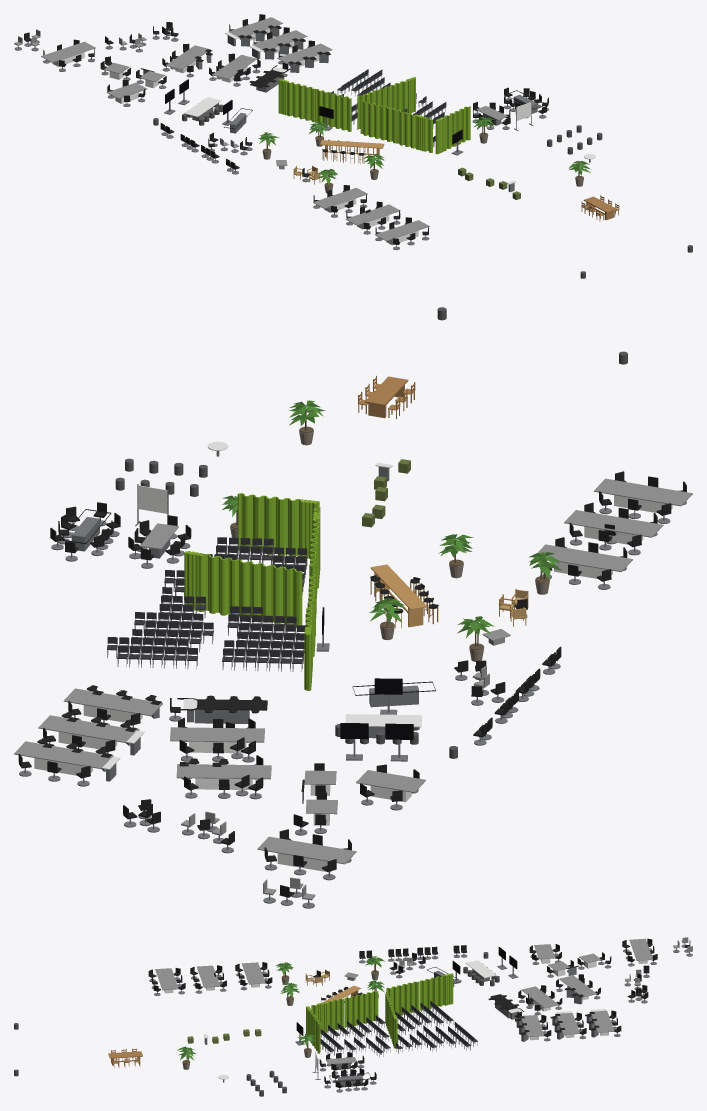
File: mobilier-574.glb
3 renders of one model, top to bottom at view 1: azimuth 30°, elevation 25°; view 2: azimuth 150°, elevation 25°; view 3: azimuth 270°, elevation 25°, orthographic. The views are drawn at different scales.
Parts seen in each view (by area): view 1: Mob_Rideau_C_ferme, Mob_Rideau_A_ferme, Mob_Rideau_B_ferme, Mob_Rideau_D_ferme, Mob_Ilot_Bureaux_3_corps, Mob_Ilot_Bureaux_6_corps, Mob_Ilot_Bureaux_2_corps, Mob_Ilot_Bureaux_4_corps, Mob_Chaises_Vitres, Mob_Table_4_corps, Mob_Table_6_corps, Mob_Table_10_corps (+9 smaller); view 2: Mob_Rideau_B_ferme, Mob_Rideau_D_ferme, Mob_Rang_01, Mob_Ilot_Bureaux_6_corps, Mob_Ilot_Bureaux_3_corps, Mob_Ilot_Bureaux_2_corps, Mob_Ilot_Bureaux_4_corps, Mob_Ilot_Bureaux_1_corps, Mob_Table_4_corps, Mob_Table_10_corps, Mob_Table_8_corps, Mob_Table_5_corps (+18 smaller); view 3: Mob_Rideau_A_ferme, Mob_Rideau_C_ferme, Mob_Chaises_Vitres, Mob_Ilot_Bureaux_6_corps, Mob_Ilot_Bureaux_3_corps, Mob_Ilot_Bureaux_2_corps, Mob_Ilot_Bureaux_4_corps, Mob_Table_1, Mob_Ilot_Bureaux_1_corps, Mob_Table_8_corps, Mob_Rideau_D_ferme, Mob_Table_6_corps (+22 smaller).
Boxes of the visible parts, <box> form: Mob_Rideau_C_ferme: <box>360,100,432,152</box>; Mob_Rideau_A_ferme: <box>279,79,351,131</box>; Mob_Rideau_B_ferme: <box>357,77,415,129</box>; Mob_Rideau_D_ferme: <box>435,106,470,153</box>; Mob_Ilot_Bureaux_3_corps: <box>249,30,307,59</box>; Mob_Ilot_Bureaux_6_corps: <box>225,17,282,46</box>; Mob_Ilot_Bureaux_2_corps: <box>277,43,332,72</box>; Mob_Ilot_Bureaux_4_corps: <box>165,45,212,73</box>; Mob_Chaises_Vitres: <box>160,123,239,174</box>; Mob_Table_4_corps: <box>375,220,429,245</box>; Mob_Table_6_corps: <box>313,187,367,212</box>; Mob_Table_10_corps: <box>41,41,95,66</box>; Mob_Rideau_B_ferme: <box>185,551,302,627</box>; Mob_Rideau_D_ferme: <box>237,493,318,555</box>; Mob_Rang_01: <box>117,645,302,671</box>; Mob_Ilot_Bureaux_6_corps: <box>14,738,120,781</box>; Mob_Ilot_Bureaux_3_corps: <box>38,712,144,755</box>; Mob_Ilot_Bureaux_2_corps: <box>63,685,162,722</box>; Mob_Ilot_Bureaux_4_corps: <box>176,758,271,789</box>; Mob_Ilot_Bureaux_1_corps: <box>176,695,267,723</box>; Mob_Table_4_corps: <box>593,478,692,513</box>; Mob_Table_10_corps: <box>257,836,356,872</box>; Mob_Table_8_corps: <box>170,727,264,753</box>; Mob_Table_5_corps: <box>564,510,663,544</box>; Mob_Rideau_A_ferme: <box>386,973,453,1015</box>; Mob_Rideau_C_ferme: <box>311,991,378,1032</box>; Mob_Chaises_Vitres: <box>359,945,467,963</box>; Mob_Ilot_Bureaux_6_corps: <box>585,1009,614,1037</box>; Mob_Ilot_Bureaux_3_corps: <box>550,1011,579,1039</box>; Mob_Ilot_Bureaux_2_corps: <box>515,1015,544,1041</box>; Mob_Ilot_Bureaux_4_corps: <box>559,975,596,1004</box>; Mob_Table_1: <box>324,1068,376,1092</box>; Mob_Ilot_Bureaux_1_corps: <box>488,994,524,1019</box>; Mob_Table_8_corps: <box>521,986,558,1011</box>; Mob_Rideau_D_ferme: <box>307,1006,320,1053</box>; Mob_Table_6_corps: <box>241,962,265,987</box>.
Bounding box in the file's own units: 30.35 × 2.75 × 57.41.
